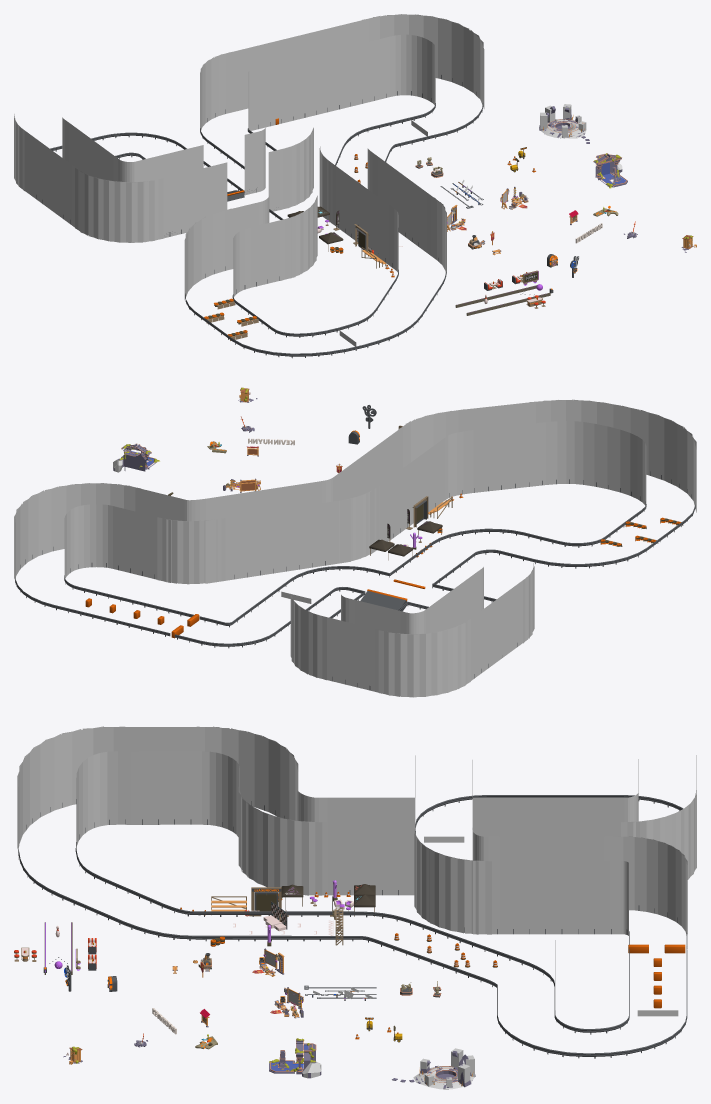
Rendered from areas.glb.
The picture shows the model from 3 angles, top to bottom: view 1: azimuth 30°, elevation 25°; view 2: azimuth 150°, elevation 25°; view 3: azimuth 270°, elevation 25°; orthographic projection. The views are drawn at different scales.
Visible parts, largest first — view 1: trimesh, refRailsPhysicalFixed, Cube.089, refBumpersPhysicalKinematicPositionBased, blocks; view 2: trimesh, refRailsPhysicalFixed, Cube.089, jump, Cube.088; view 3: trimesh, refRailsPhysicalFixed, Cube.088, Cube.089, Cube.173.
Boxes of the visible parts, box(x1,y1,x2,y2) form: trimesh: box(14, 14, 484, 299); refRailsPhysicalFixed: box(36, 75, 483, 358); Cube.089: box(593, 153, 627, 188); refBumpersPhysicalKinematicPositionBased: box(455, 285, 550, 315); blocks: box(204, 298, 258, 340); trimesh: box(14, 399, 696, 697); refRailsPhysicalFixed: box(15, 471, 695, 690); Cube.089: box(113, 443, 159, 471); jump: box(360, 579, 425, 611); Cube.088: box(370, 496, 452, 560); trimesh: box(17, 726, 696, 1009); refRailsPhysicalFixed: box(18, 795, 687, 1058); Cube.088: box(210, 887, 374, 946); Cube.089: box(269, 1038, 321, 1078); Cube.173: box(392, 1051, 475, 1088).
Bounding box in the file's own units: 169 × 22.1 × 169.
27 materials, 13 textured.
